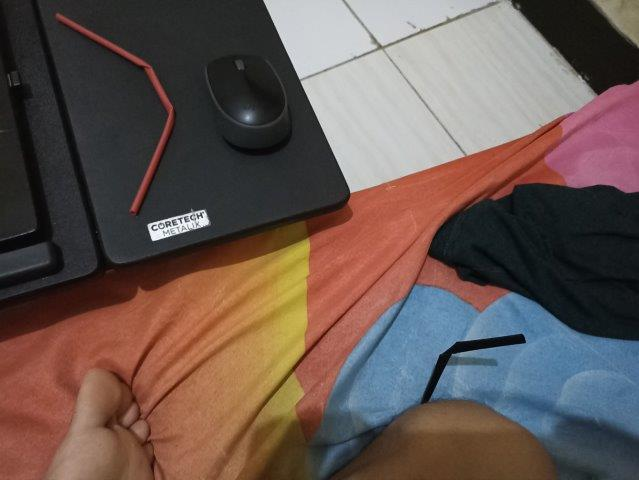sedotan: (56, 14, 173, 214)
